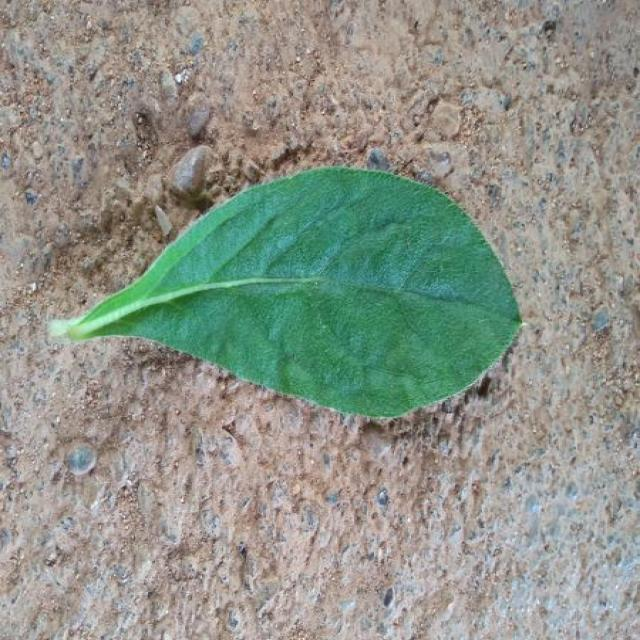globe amarnath: (50, 168, 522, 418)
